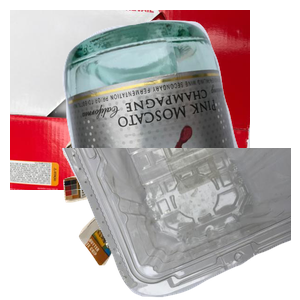cardboard: (10, 10, 250, 190)
glass: (60, 17, 300, 197)
plastic: (60, 148, 300, 300)
trash: (61, 123, 273, 300)
